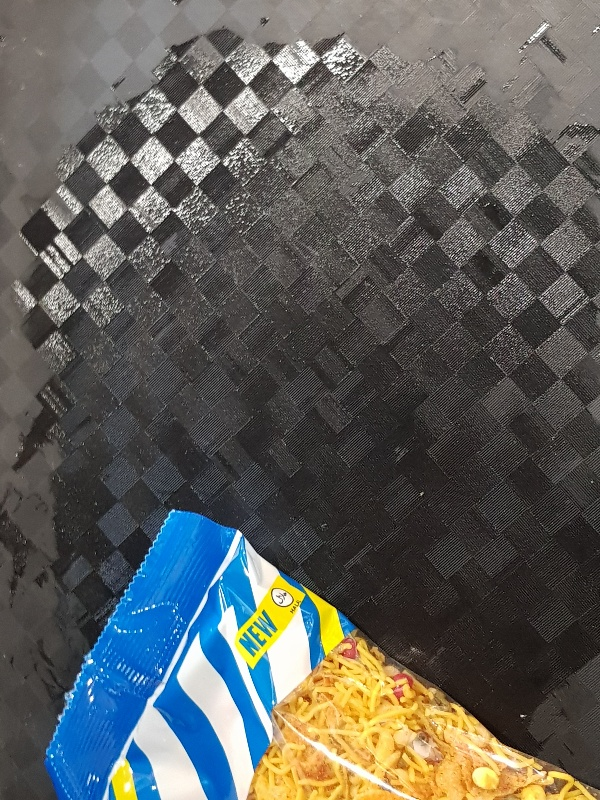Star Tidbits Mixer: (44, 504, 600, 799)
